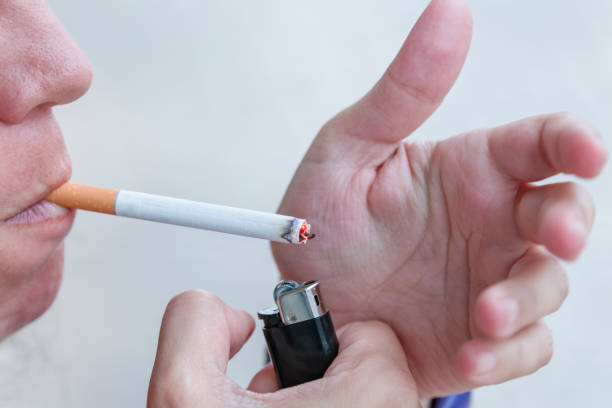cigarette: (44, 179, 315, 248)
